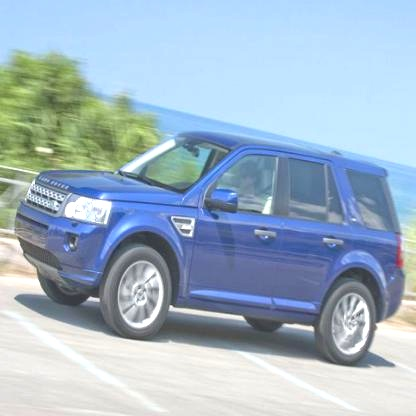Vehicle: (15, 130, 404, 367)
